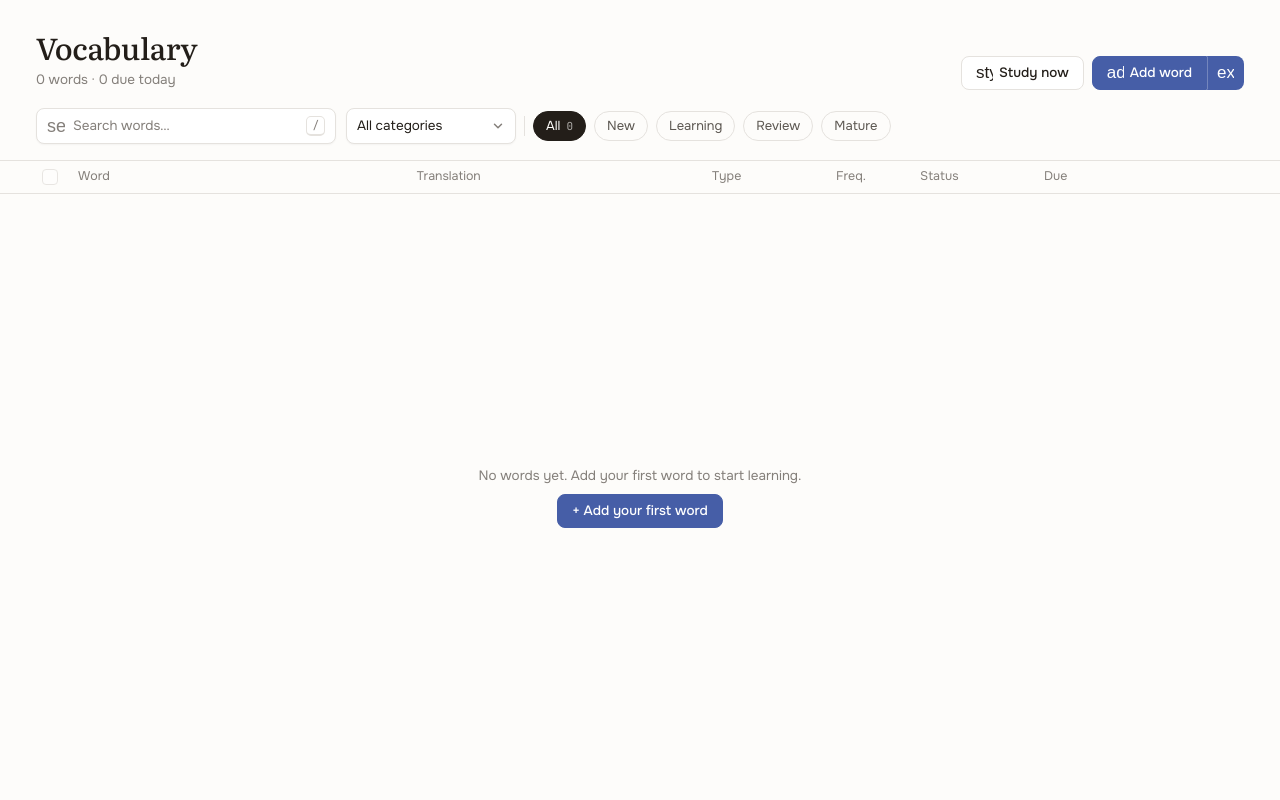
VocabularyPage add split menu › opens Add Word modal from the primary button
Click the button "Add word": (1149, 73) [1092,56,1207,90]
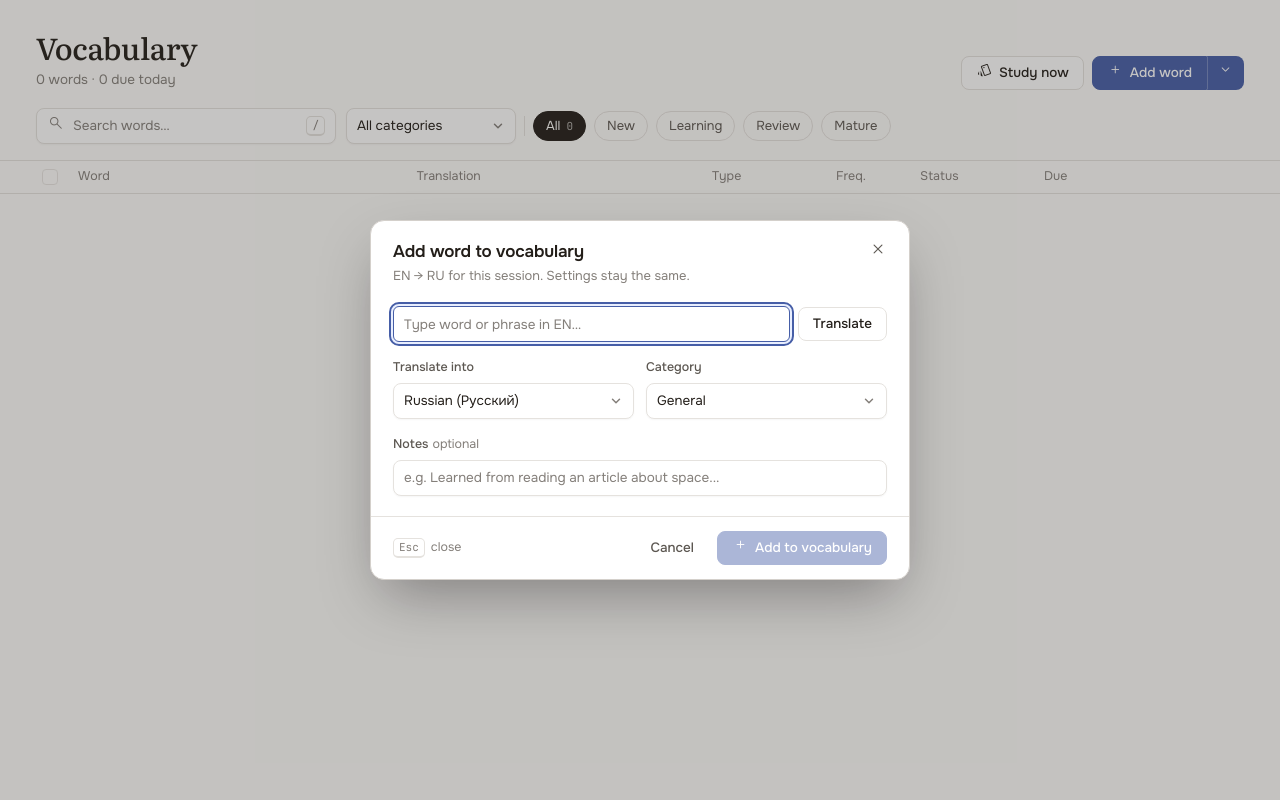
Expected: the dialog "Add word to vocabulary" is shown, [370,220,910,580]
